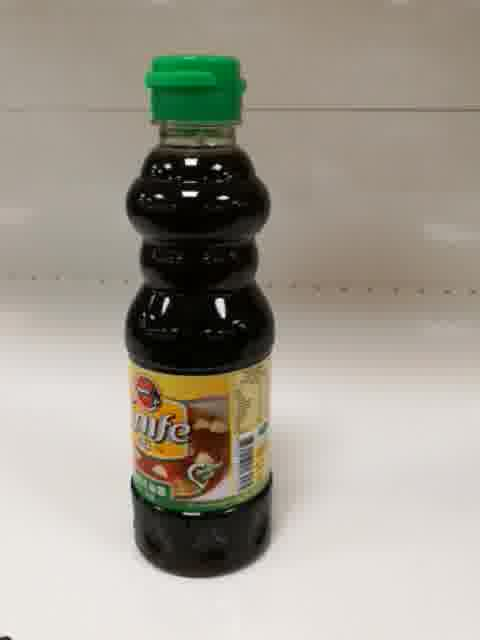cookingoil: (121, 53, 278, 582)
